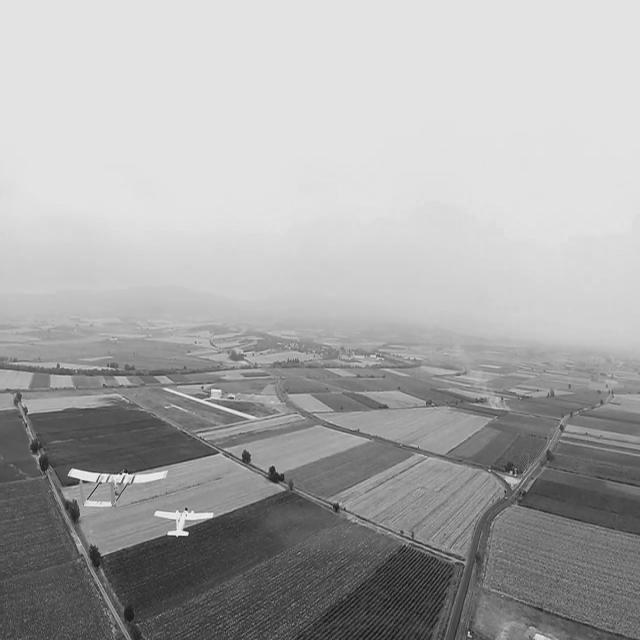iha: (29, 486, 80, 492), (183, 492, 184, 535)
